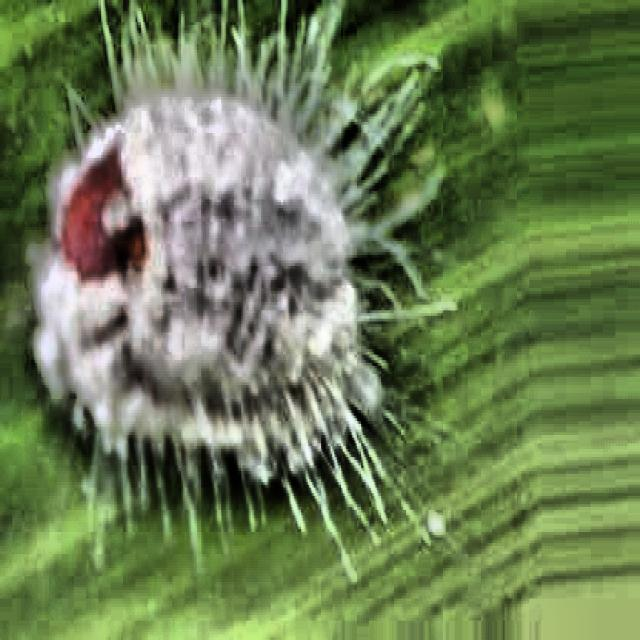Mealy-bug: (13, 2, 426, 574)
